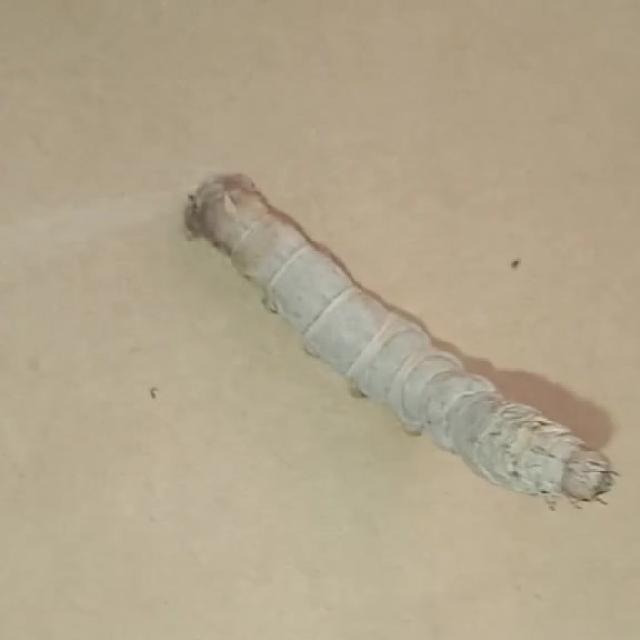Grasserie: (174, 122, 619, 540)
